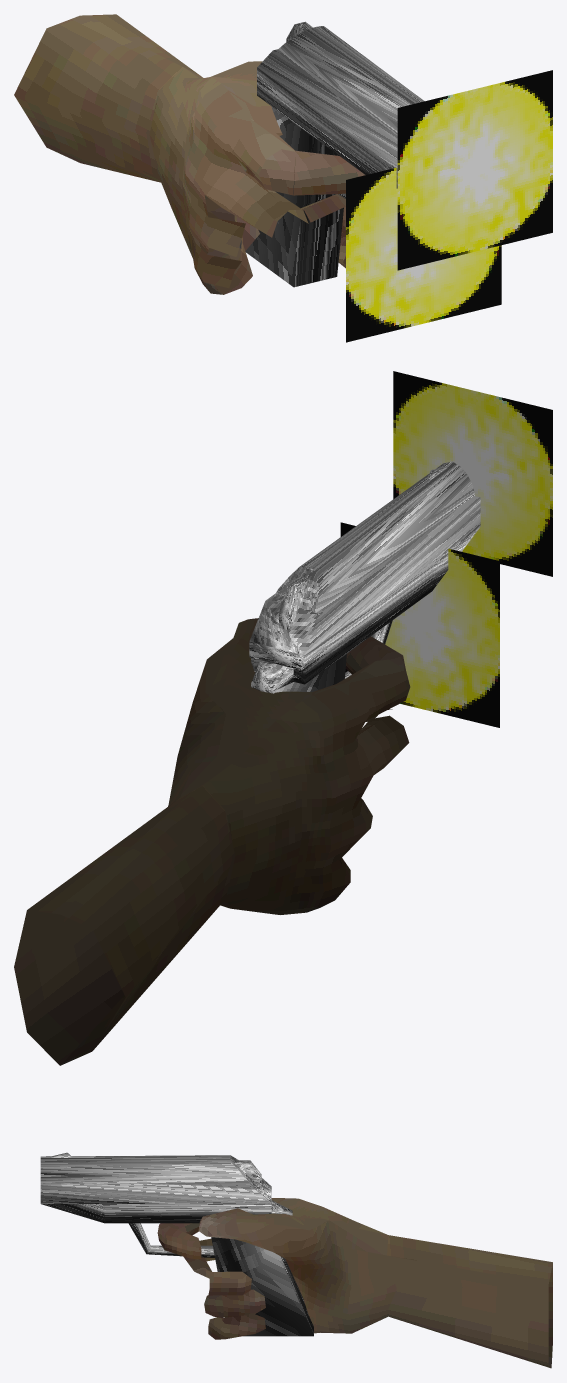
Rendered from GsilverwppkZ.obj.
3 views of the same model, one above another, from view 1: azimuth 30°, elevation 25°; view 2: azimuth 150°, elevation 25°; view 3: azimuth 270°, elevation 25° (orthographic). The views are drawn at different scales.
Size of the model in its own units: 91 by 194 by 383.
Materials: 29 (29 with a texture image).
